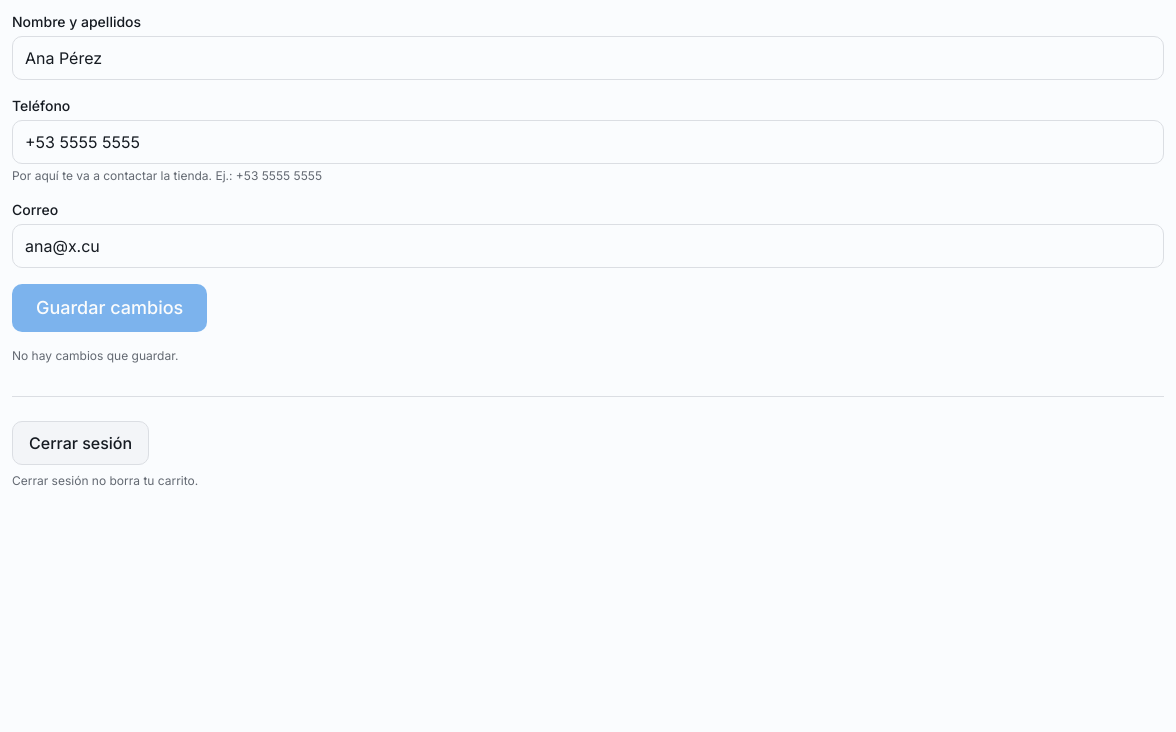
Test: ProfileForm (design.md § 4, E9-E11) › editar un campo habilita Guardar y guarda con éxito (E9)
This screenshot has width=1176, height=732.
Replace the text in the field labelled "Nombre y apellidos" with "Ana P." at (588, 58), box [12, 36, 1164, 80]
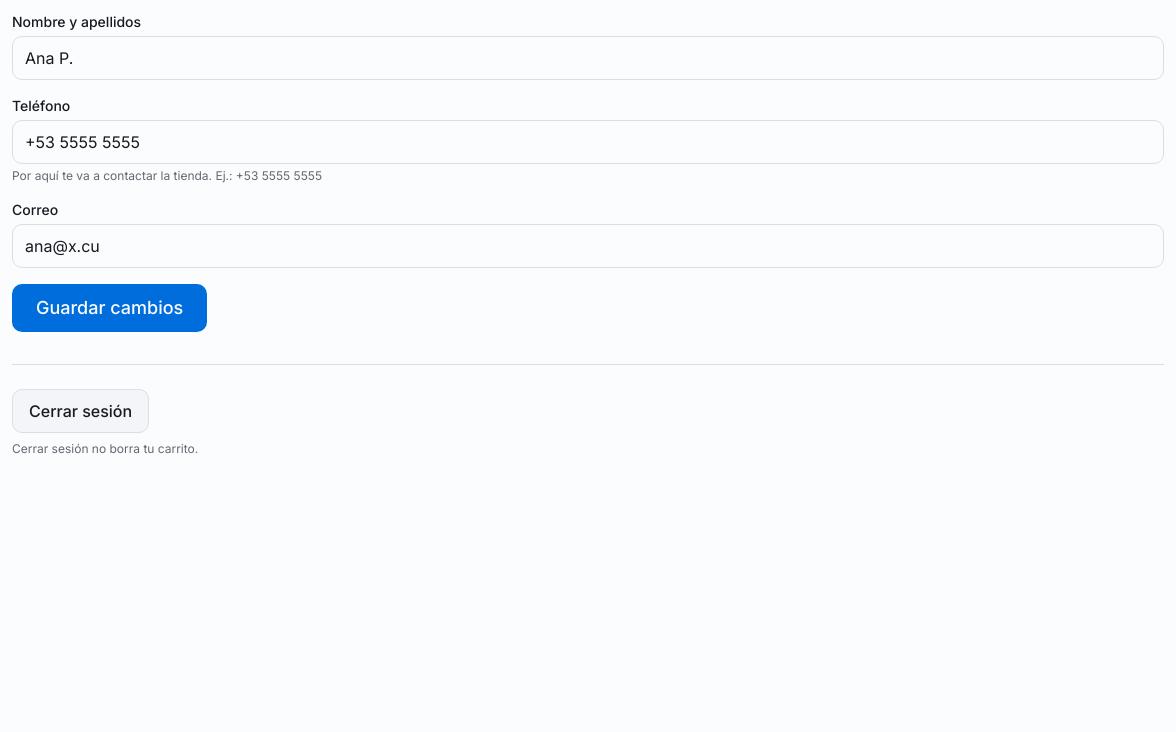
Check: the button "Guardar cambios" is enabled
Click the button "Guardar cambios" at (110, 308), box [12, 284, 207, 332]
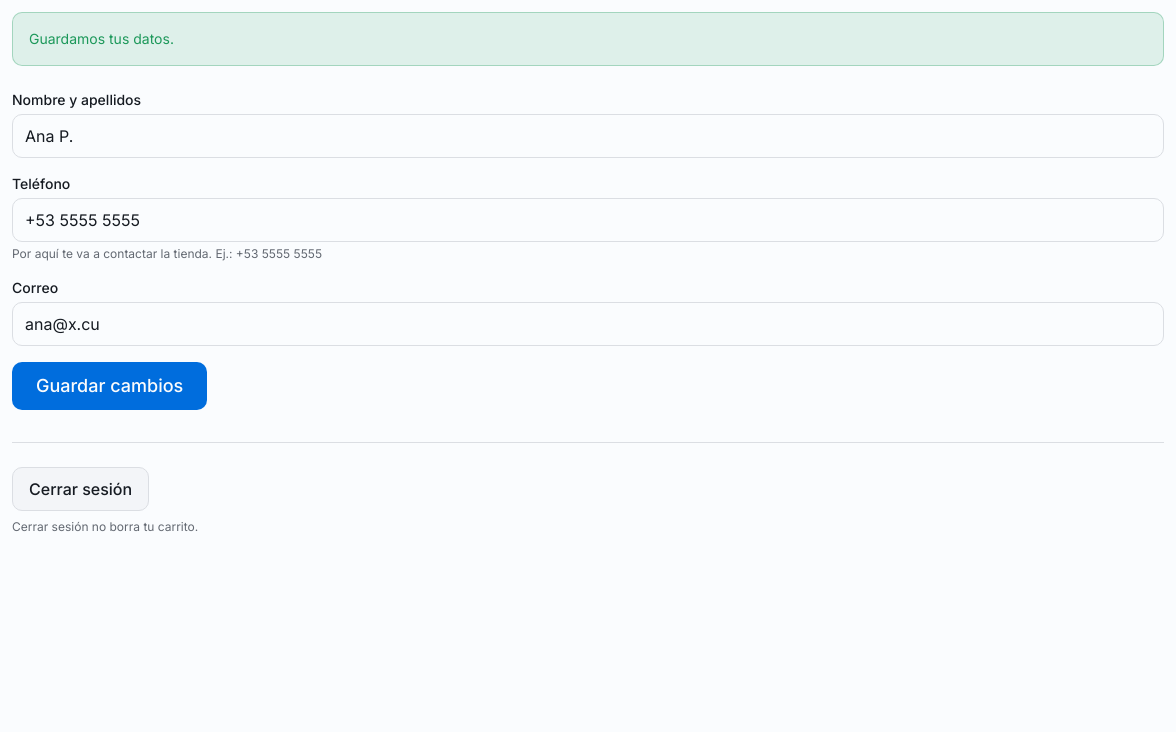
Check: the text "Guardamos tus datos." is shown, box [29, 30, 174, 47]
